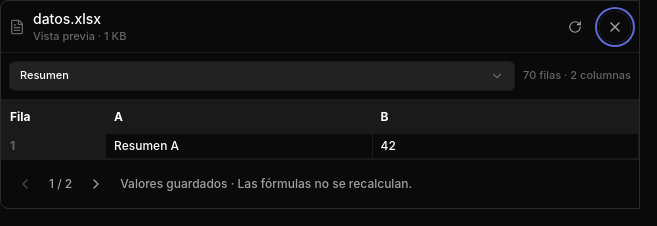
Test case: permite cambiar de hoja y reinicia la página de Excel
Expected: the text "Resumen A" is shown, [106,133,372,158]
Click the button named "Página siguiente". click: (96, 184)
box: [80,168,112,200]
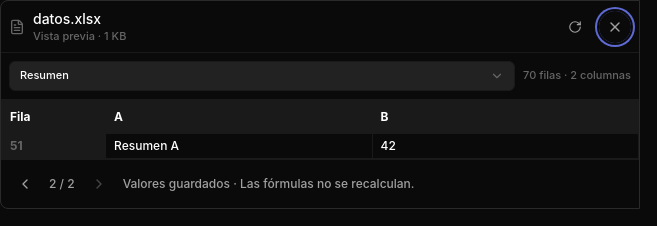
Click the button with aria-label "Hoja de cálculo". click: (44, 75)
box: [9,61,515,91]
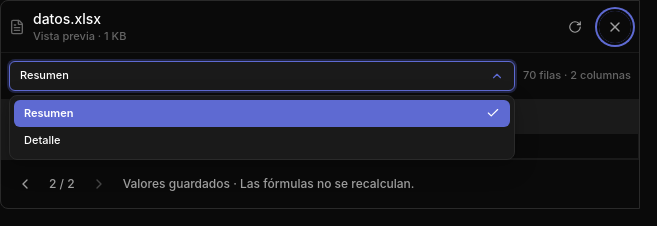
Click the option "Detalle". click: (42, 140)
box: [14,127,510,155]
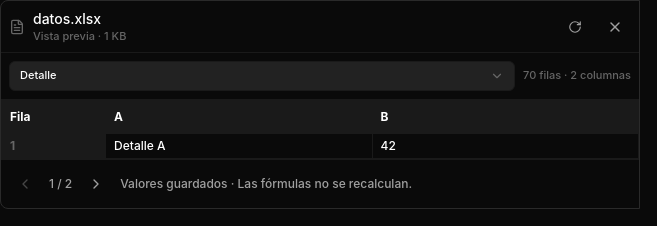
Now the text "Detalle A" is shown, box [106,133,372,158]
